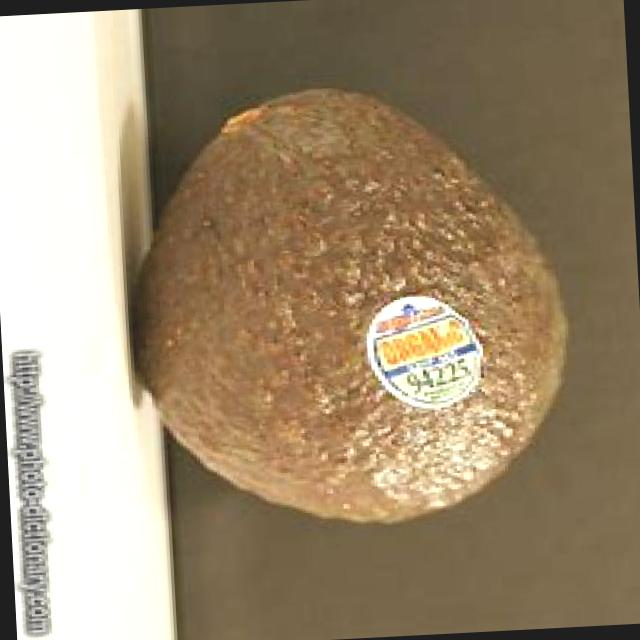avocado: (114, 74, 580, 545)
